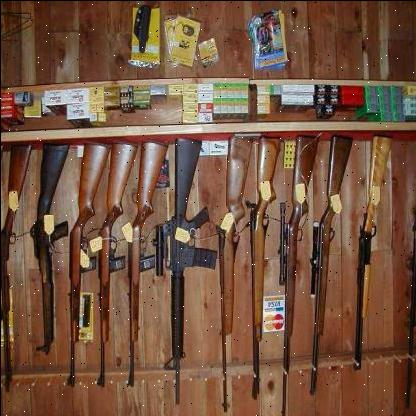rifle: (144, 136, 215, 413), (269, 130, 323, 416), (55, 140, 112, 389), (344, 133, 399, 381), (302, 136, 352, 401), (119, 137, 168, 398), (214, 116, 255, 416), (87, 142, 135, 390), (238, 127, 279, 415), (27, 126, 69, 367), (1, 135, 22, 395)
